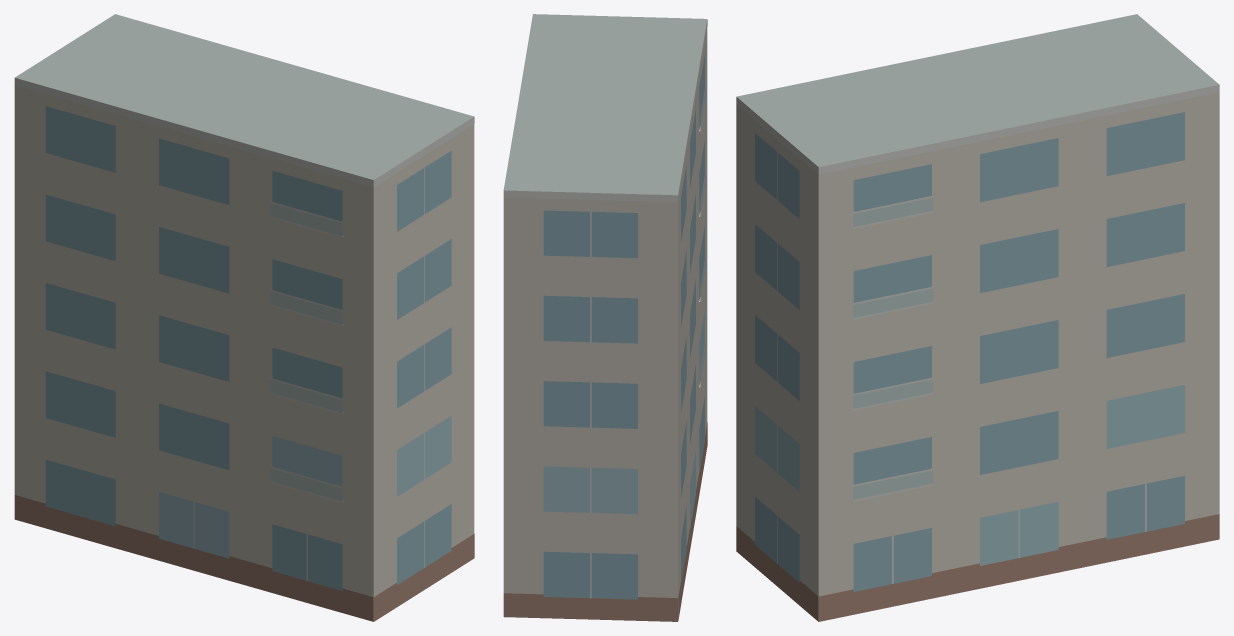
File: survey-upis-32738336.glb
3 renders of one model, left to right at view 1: azimuth 30°, elevation 25°; view 2: azimuth 150°, elevation 25°; view 3: azimuth 270°, elevation 25°, orthographic. The views are drawn at different scales.
Parts seen in each view (by area): view 1: survey-upis-32738336.tmp; view 2: survey-upis-32738336.tmp; view 3: survey-upis-32738336.tmp.
Part boxes in pixels (x1,y1,x2,y2): survey-upis-32738336.tmp: (14, 14, 474, 621); survey-upis-32738336.tmp: (503, 14, 707, 621); survey-upis-32738336.tmp: (736, 14, 1219, 621).
Bounding box in the file's own units: 10.71 × 14.8 × 14.27.
